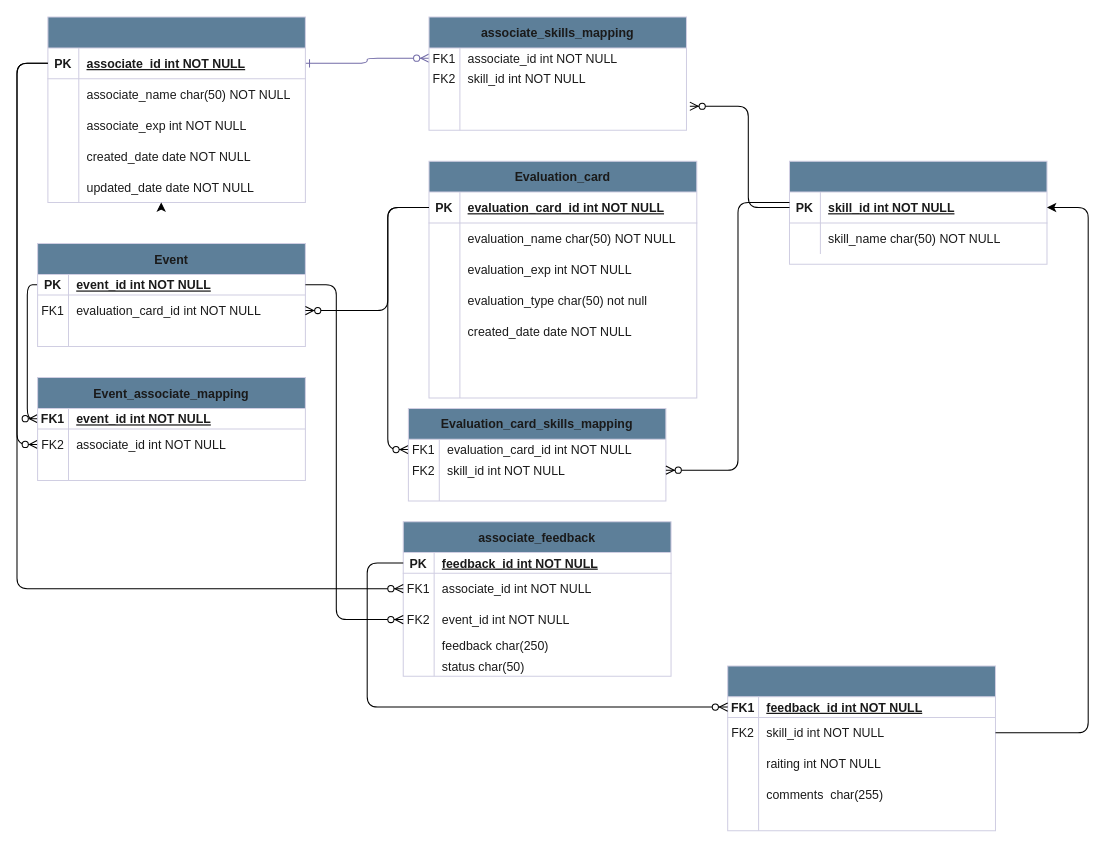
Image size: 1105x848. Some labels were removed from this diagram. The box of each missing label's shape, as (x1, y1, x2, y2) in pixels:
Associates: (47, 16, 305, 202)
skill_raiting: (727, 665, 995, 831)
Skills: (788, 160, 1047, 264)
